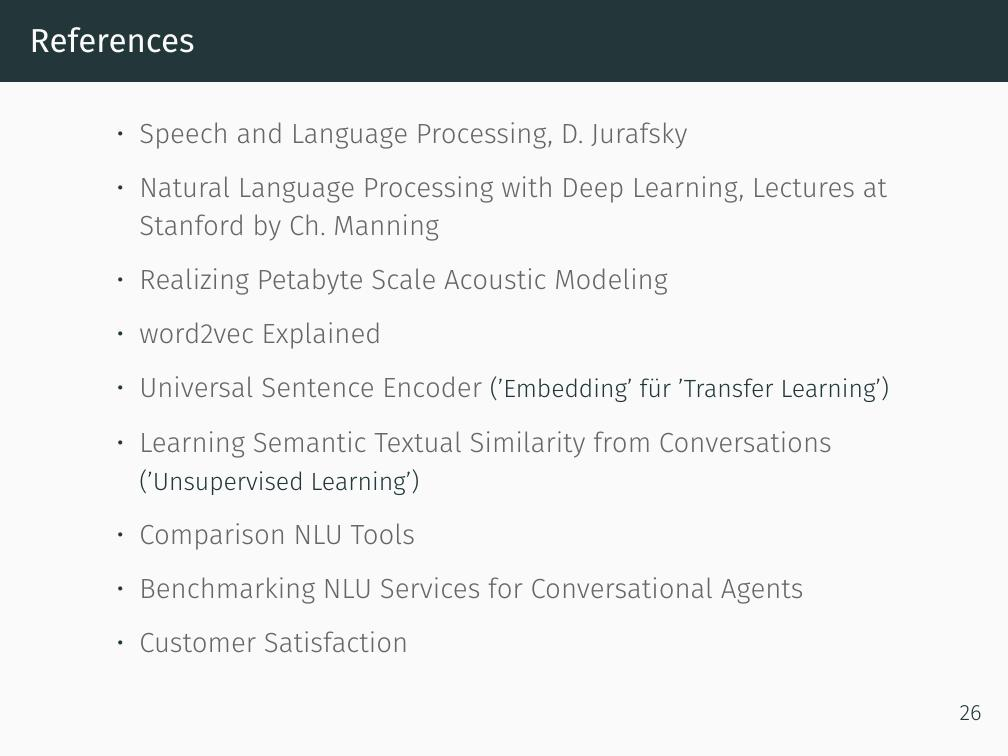Title: (23, 21, 202, 62)
